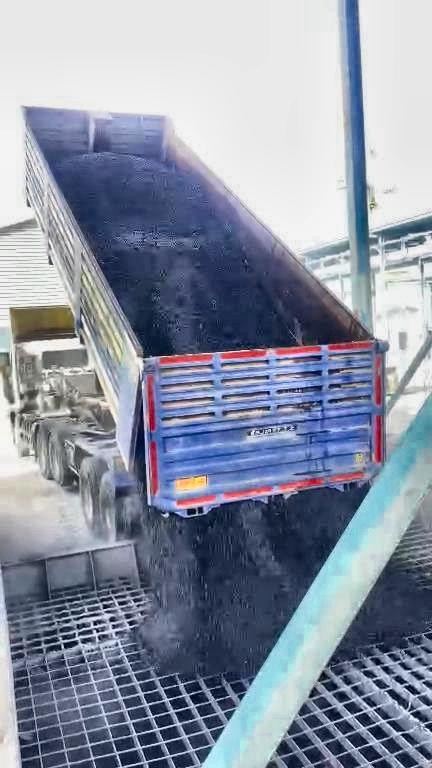gravel: (56, 153, 301, 353), (138, 489, 364, 675), (337, 560, 432, 656)
